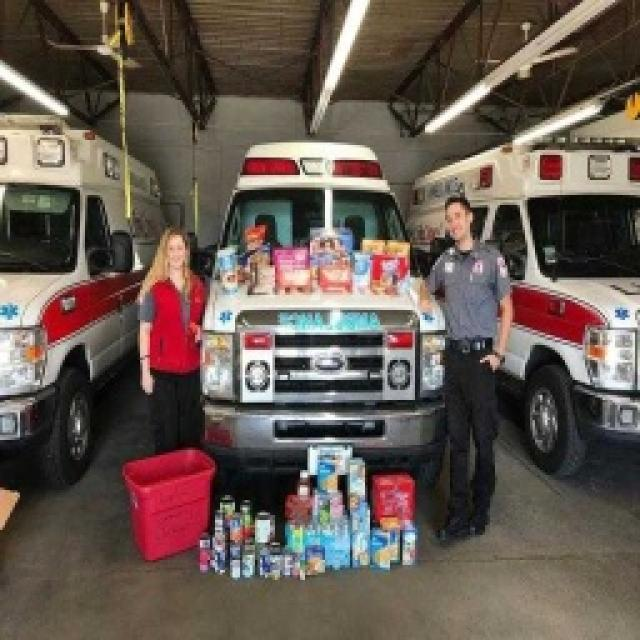emergency-vehicle: (200, 133, 450, 492), (392, 142, 640, 470), (0, 111, 161, 503)
